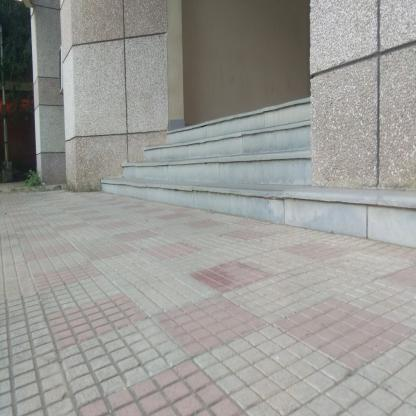stairs: (186, 121, 305, 229)
